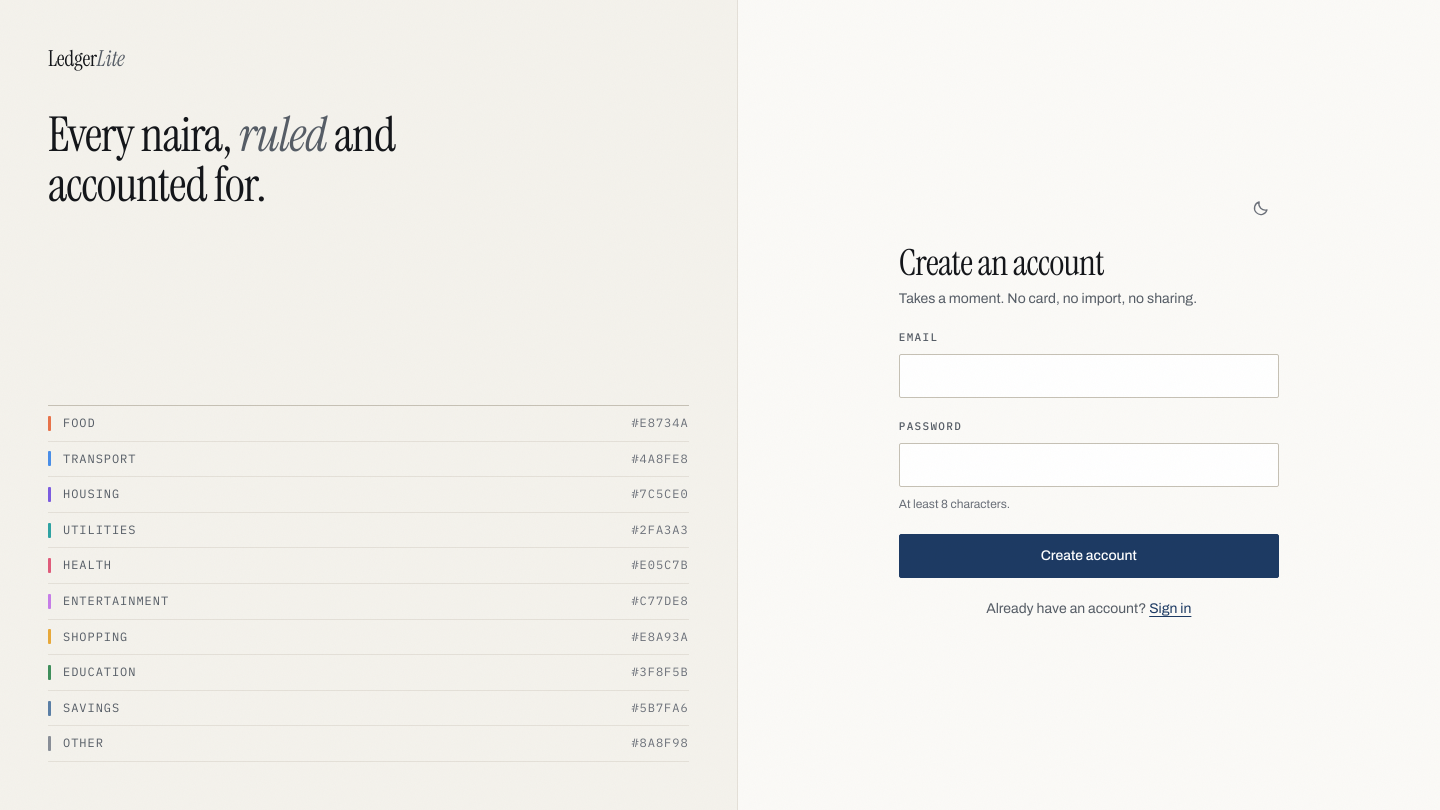
Scenario: signing up › reports a taken email with the server sentence
expect the heading "Create an account" is shown: met, box [899,239,1104,286]
Type "demo@ledgerlite.app" into the field labelled "Email" at (1089,376), box [899,354,1279,398]
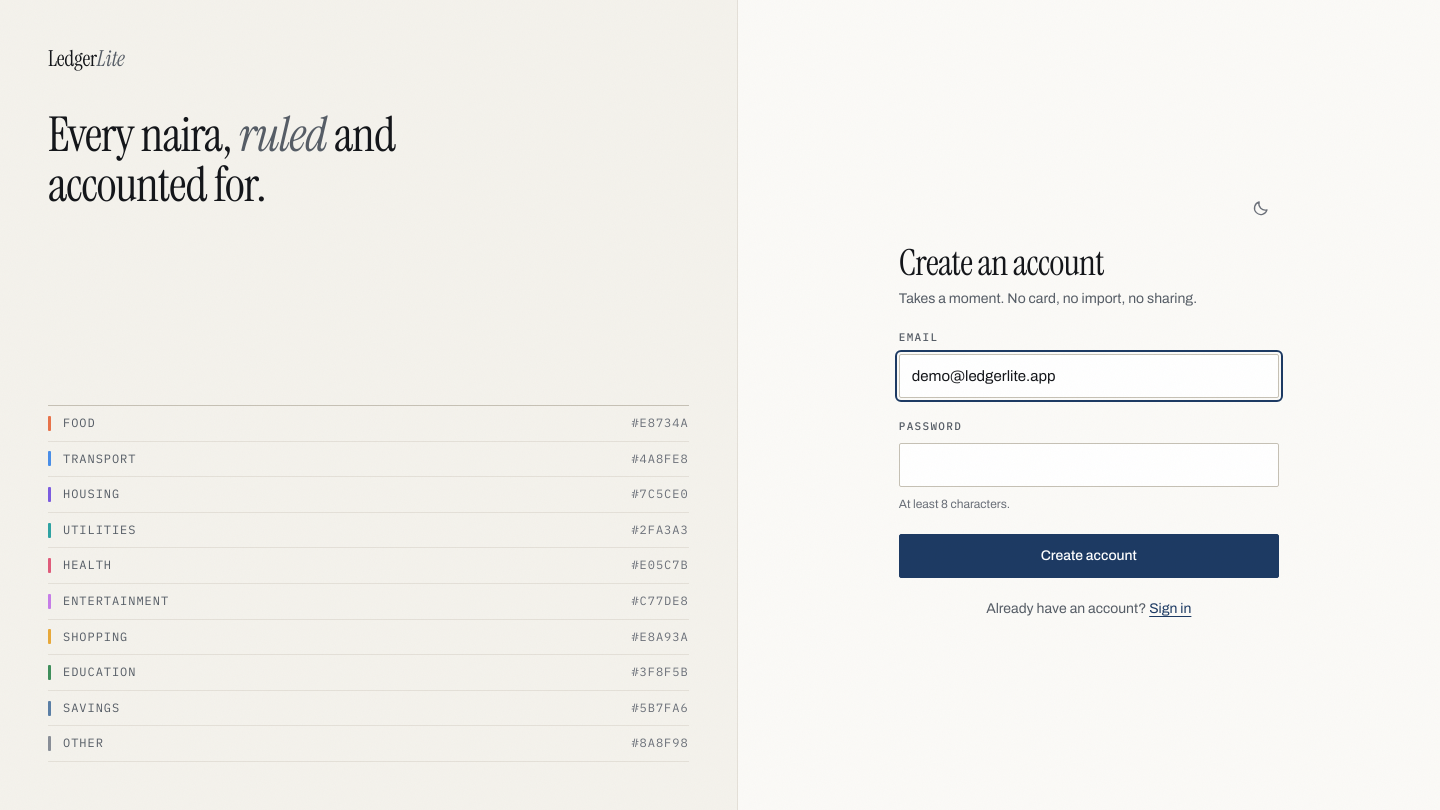
Type "a good password" into the password field labelled "Password" at (1089,465), box [899,443,1279,487]
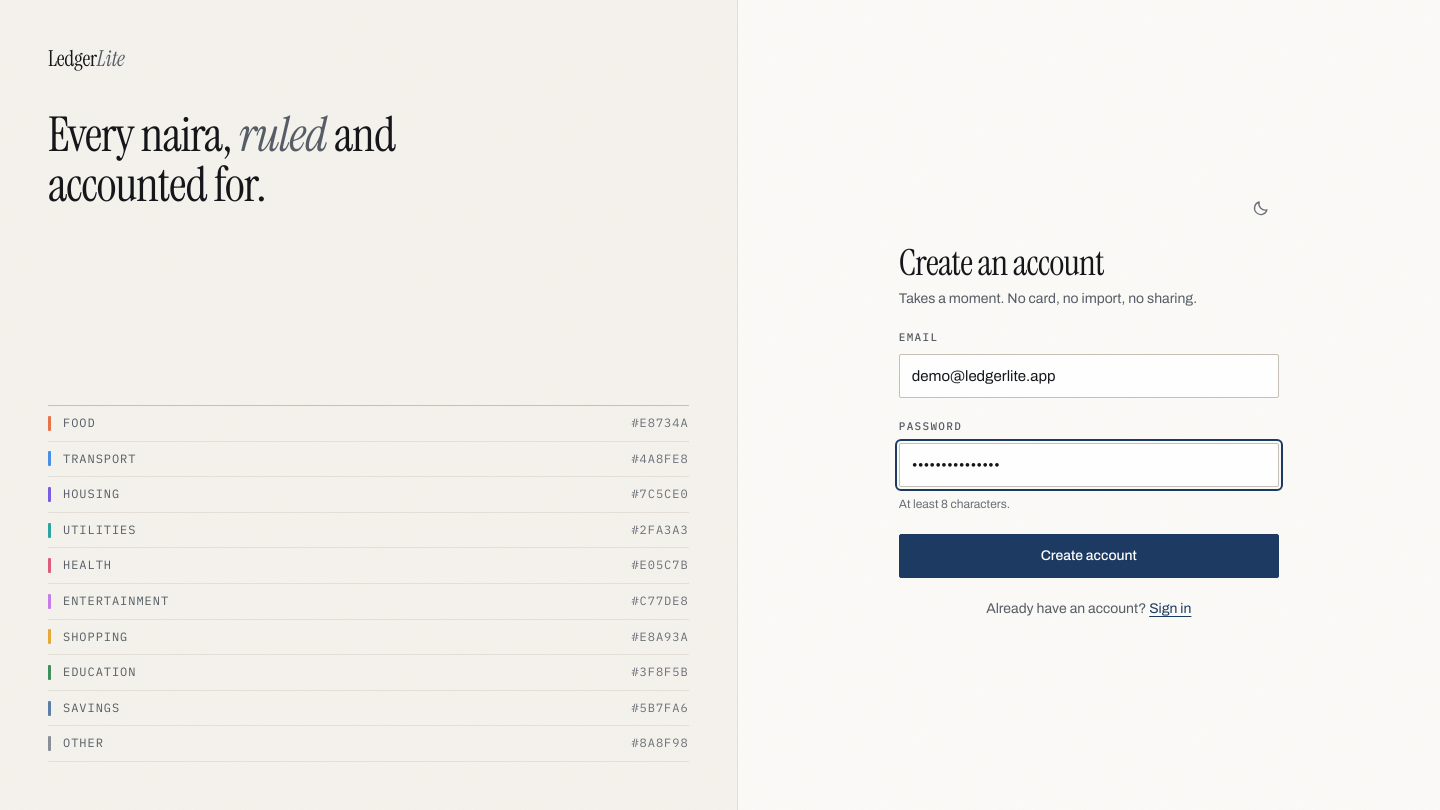
Click the button "Create account" at (1089,556), box [899,534,1279,578]
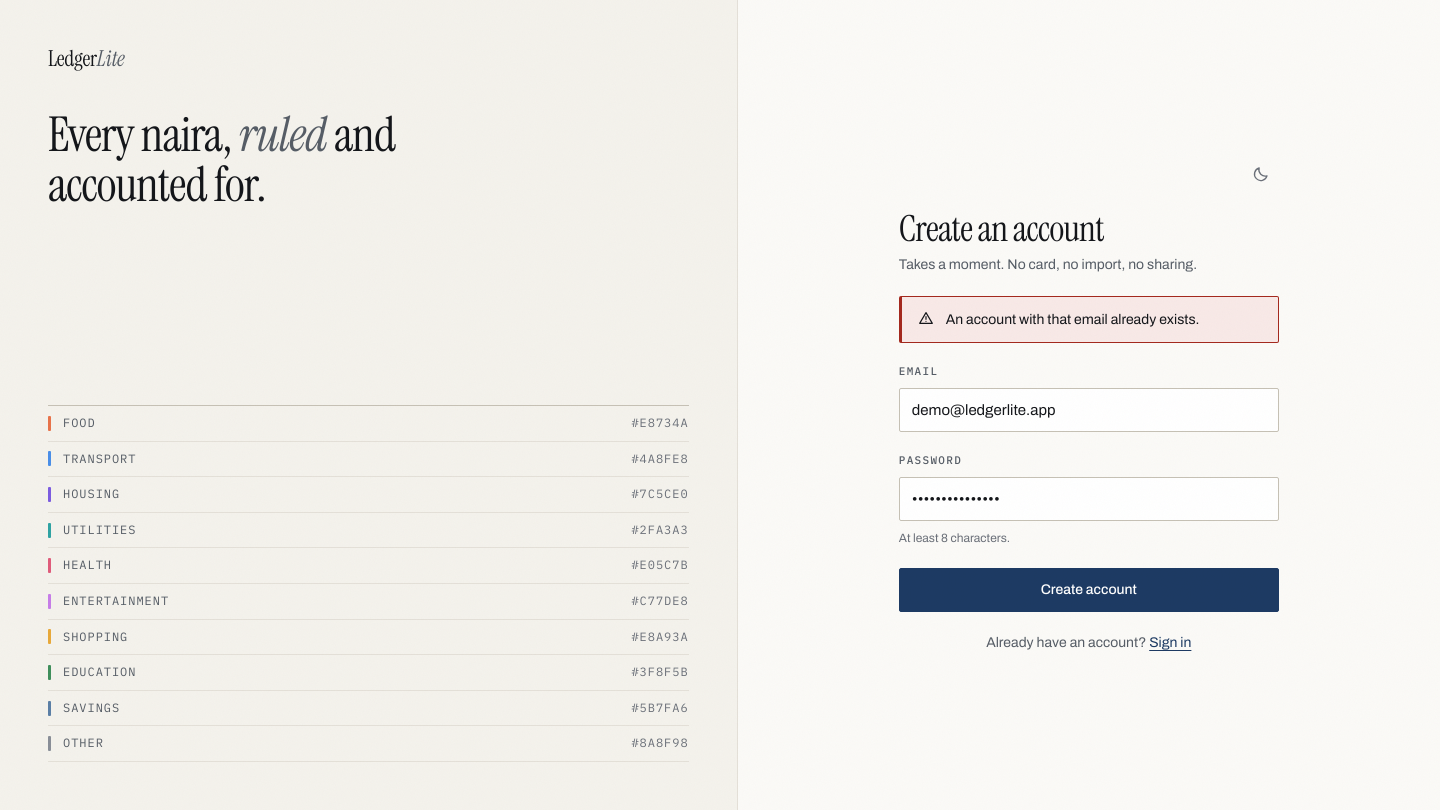
expect the text "An account with that email already exists." is shown: met, box [946,308,1200,330]
